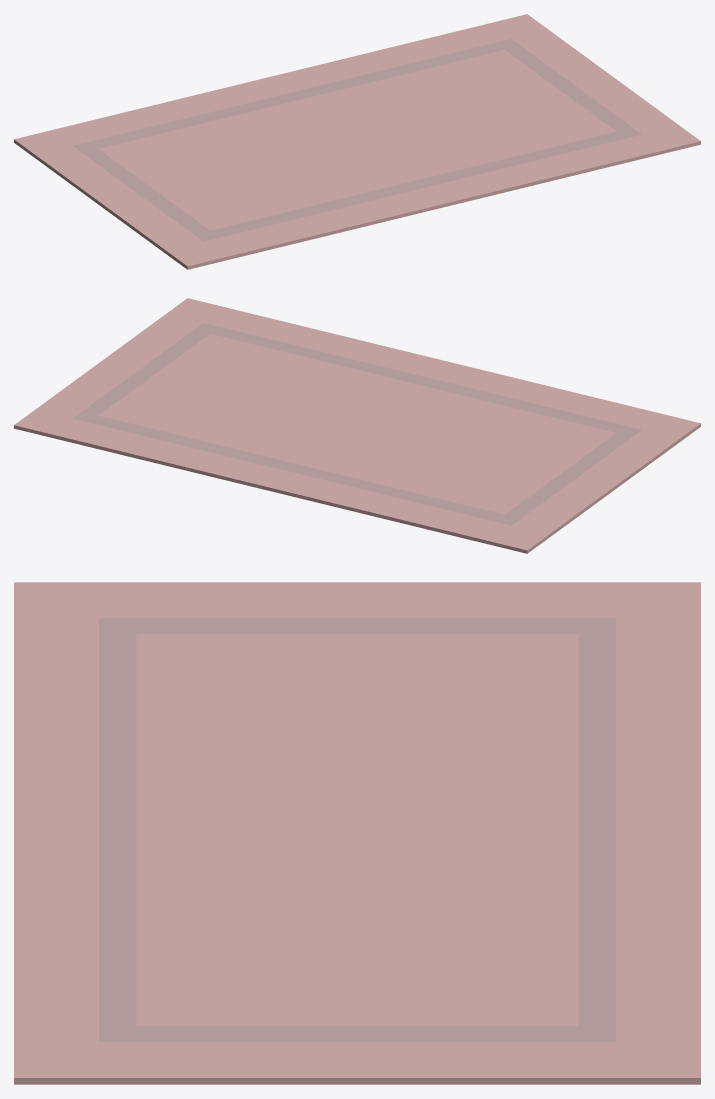
The model's file is furn_rugRectangle.glb.
3 views of the same model, one above another, from view 1: azimuth 30°, elevation 25°; view 2: azimuth 150°, elevation 25°; view 3: azimuth 270°, elevation 25° (orthographic). The views are drawn at different scales.
Bounding box in the file's own units: 3.14 × 0.02 × 1.84.
